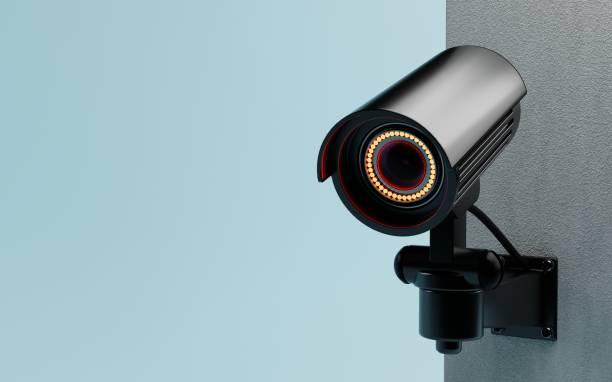camera: (299, 35, 543, 307)
